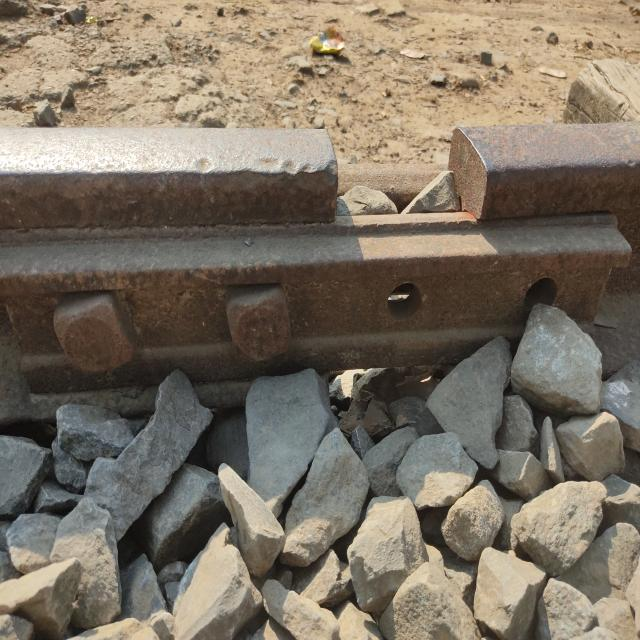defective: (266, 88, 614, 440)
